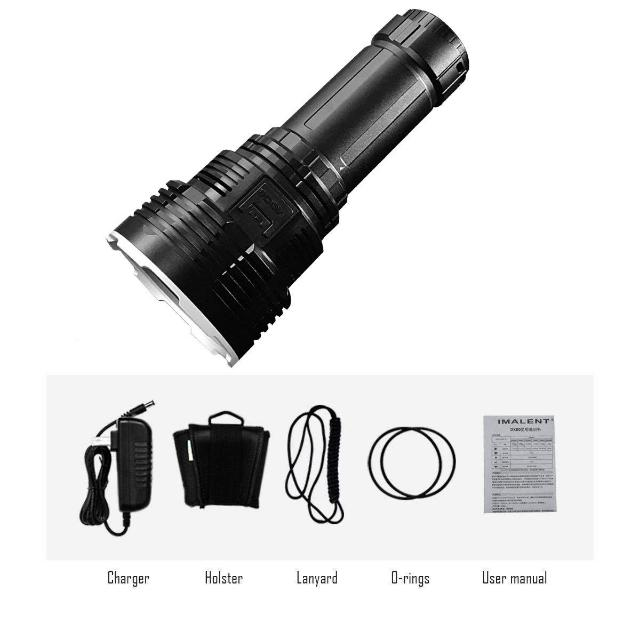Flashlight: (94, 1, 482, 376)
